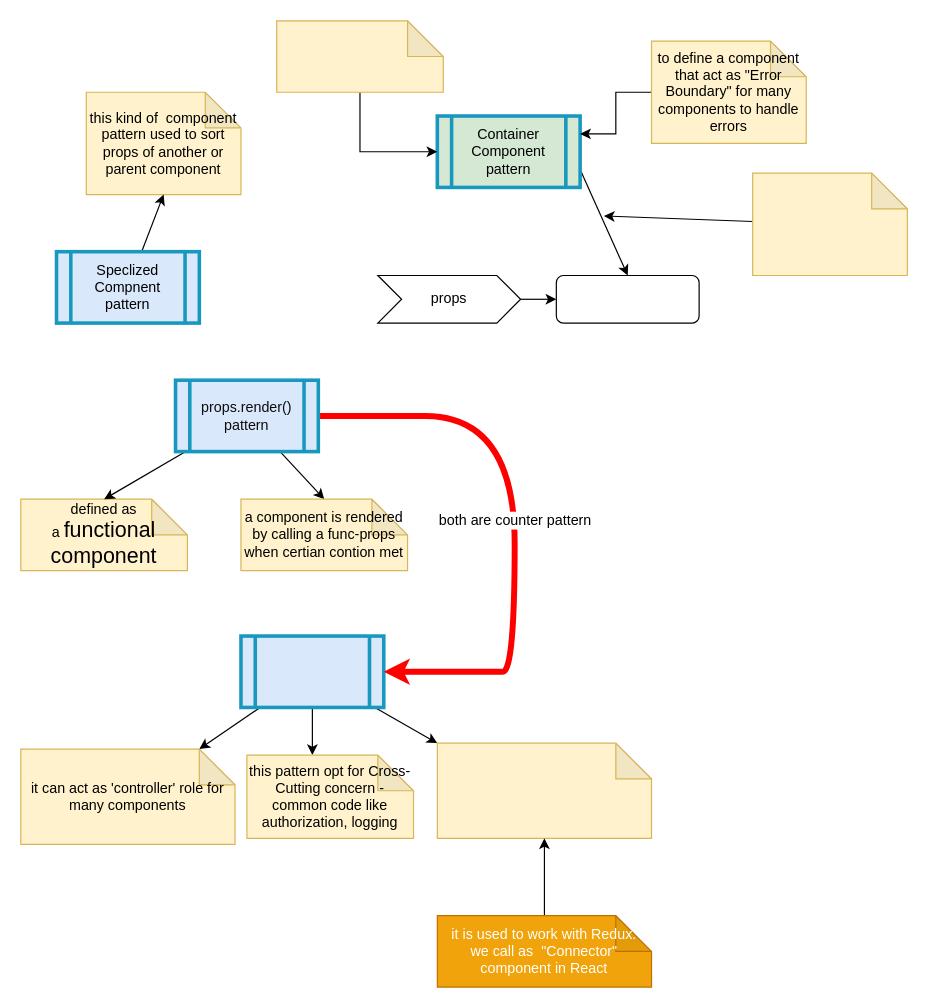
The diagram is 928 pixels wide and 1008 high, and some of its shapes have lost their labels. The shapes that lost their labels are listed below. From the top down, each one's centre as x and y in pixels, then its label:
the point at 359,56: used for form validation
the point at 829,223: used to manipulate child compoents and update their props that received
the point at 627,298: children
the point at 312,671: Higher Order Component ( HOC ) pattern
the point at 544,790: defined in a function that return a functional / class based component
